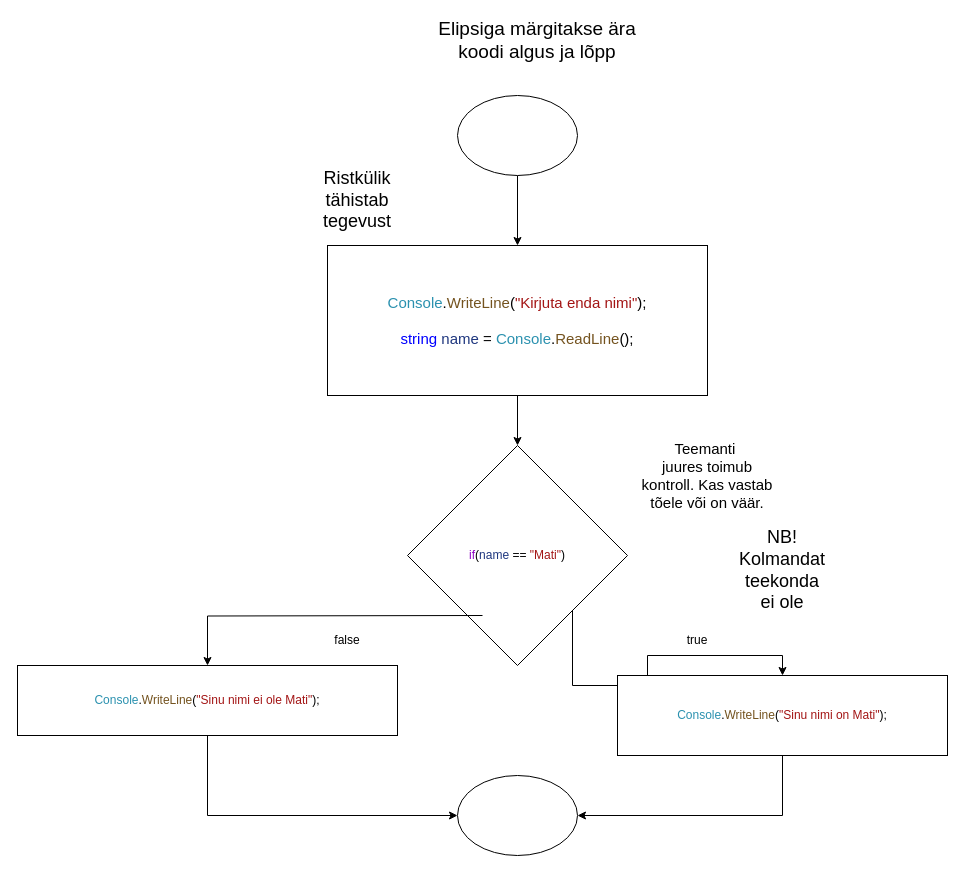
The diagram is 965 pixels wide and 873 high, and some of its shapes have lost their labels. The centre of each missing label's shape, as x and y in pixels:
"END" goes at (517,815).
"START" goes at (517,135).
